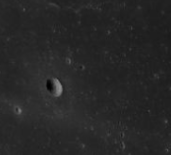crater: (30, 54, 75, 128)
